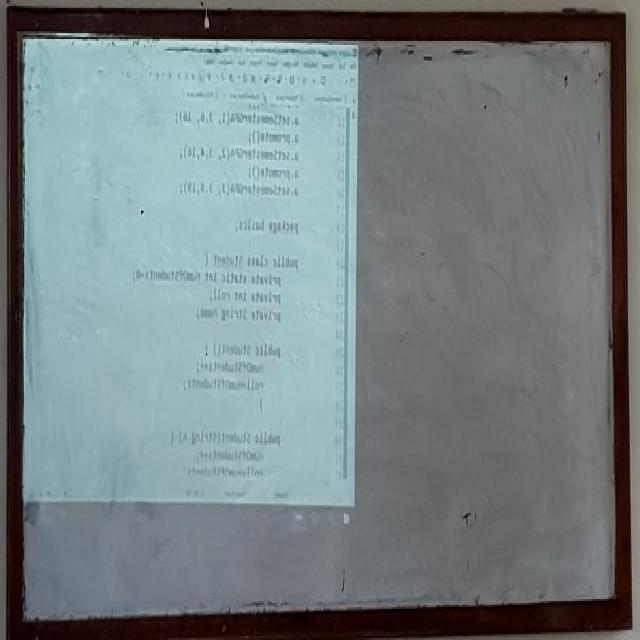Slide: (22, 36, 359, 532)
White-board: (10, 18, 619, 635)
